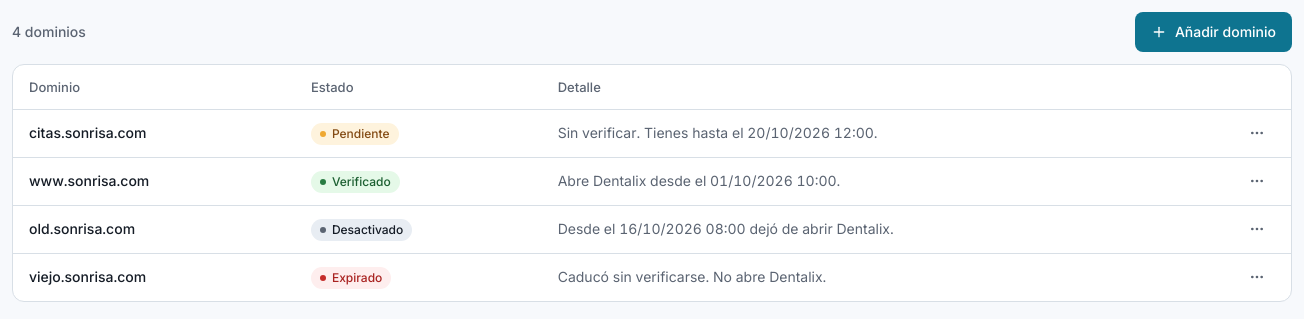
Test: DomainsManager (SEC-009) › verificar un PENDING que caducó (410) lo marca Expirado, sin reintento
Click the button named "Acciones de citas.sonrisa.com" at (1257, 133), box top-left (1239, 115), bottom-right (1275, 151)
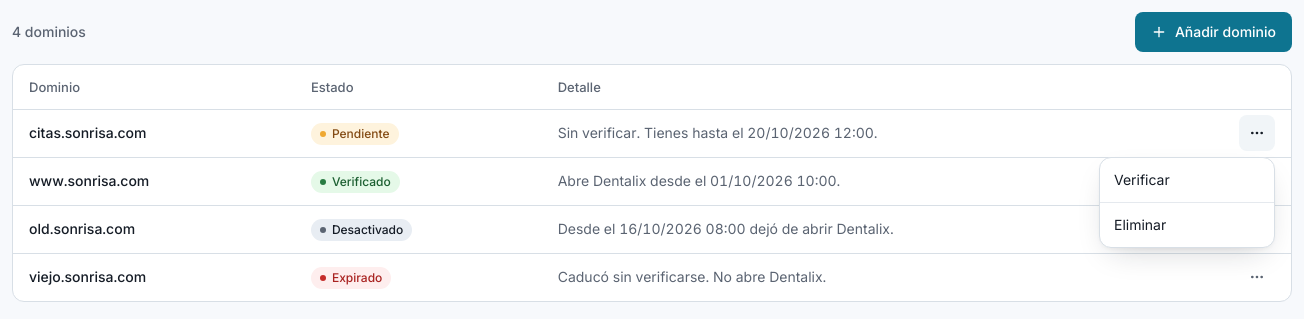
Click the menu item "Verificar" at (1142, 180), box top-left (1114, 171), bottom-right (1170, 188)
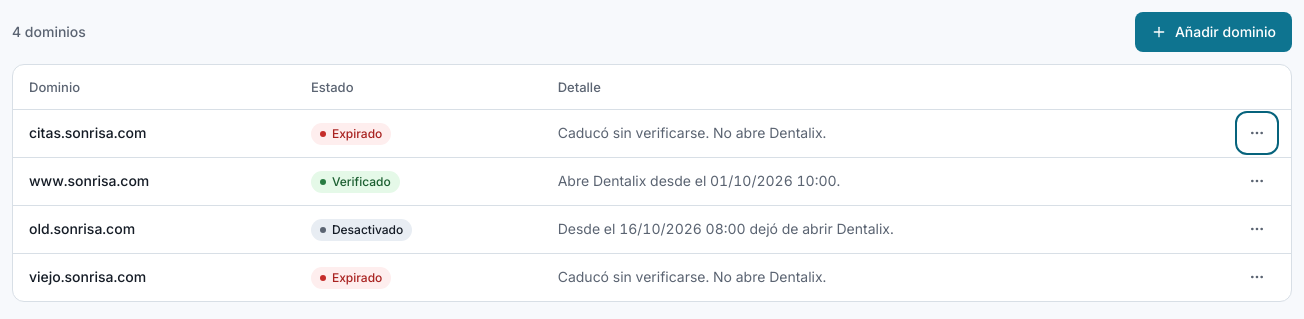
Result: the text "Expirado" is shown at top-left (311, 122), bottom-right (391, 144)
